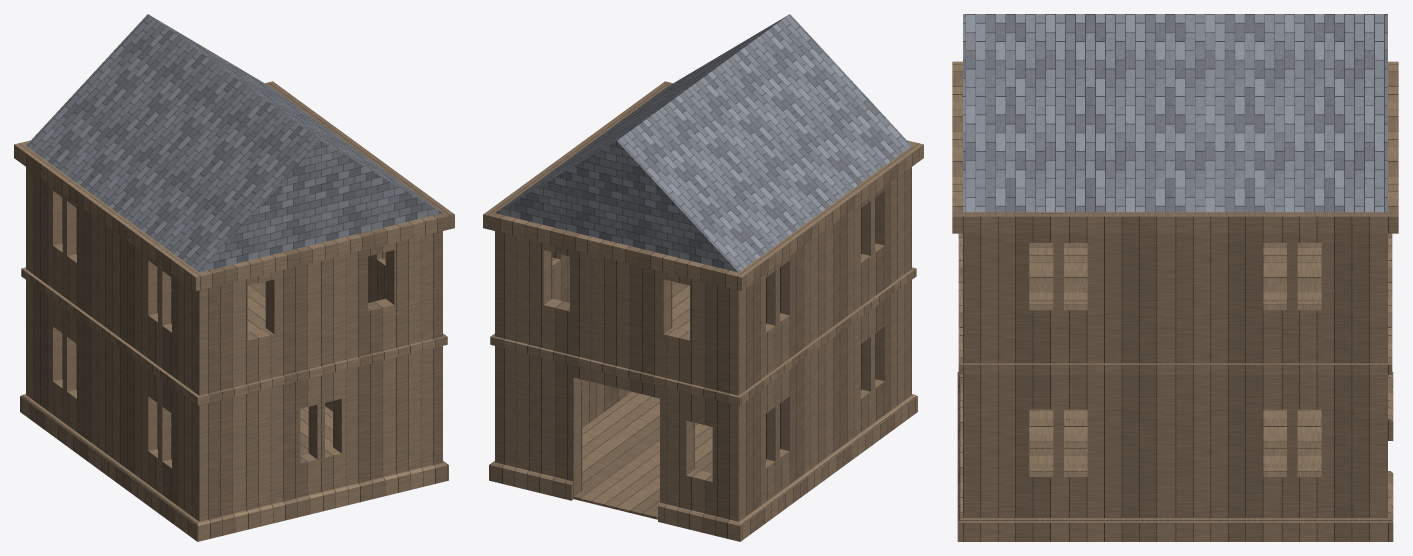
The model's file is house_d.glb.
The picture shows the model from 3 angles, left to right: view 1: azimuth 30°, elevation 25°; view 2: azimuth 150°, elevation 25°; view 3: azimuth 270°, elevation 25°; orthographic projection. The views are drawn at different scales.
Visible parts, largest first — view 1: body_timber, roof_slate, trim_timber; view 2: body_timber, roof_slate, trim_timber; view 3: body_timber, roof_slate, trim_timber.
Boxes of the visible parts, x1,y1,x2,y2 form: body_timber: [26, 167, 442, 521]; roof_slate: [26, 14, 442, 272]; trim_timber: [14, 81, 454, 541]; body_timber: [495, 167, 911, 521]; roof_slate: [495, 14, 911, 272]; trim_timber: [483, 81, 923, 541]; body_timber: [963, 233, 1387, 517]; roof_slate: [963, 14, 1387, 212]; trim_timber: [952, 61, 1398, 541].
Bounding box in the file's own units: 6.9 × 9.4 × 8.4.
3 materials, 3 textured.
